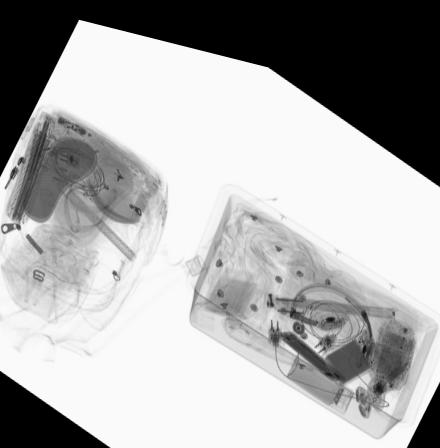Powerbank: (322, 311, 387, 370)
